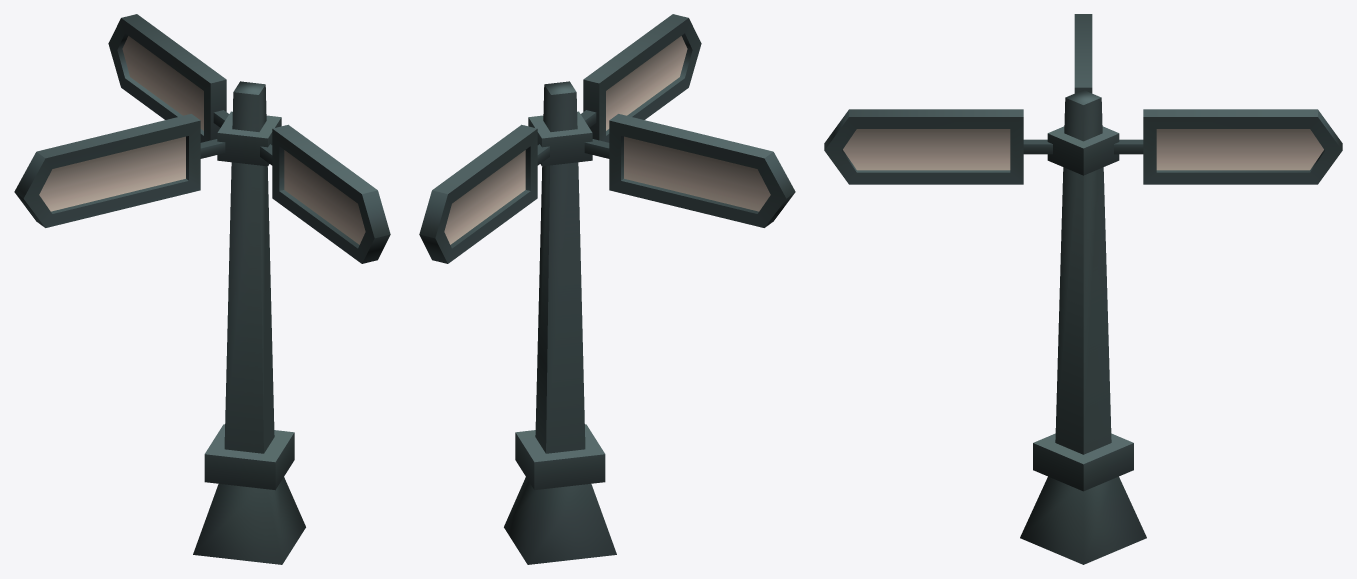
The model's file is Streetsign_1B.fbx.
3 renders of one model, left to right at view 1: azimuth 30°, elevation 25°; view 2: azimuth 150°, elevation 25°; view 3: azimuth 270°, elevation 25°, orthographic. The views are drawn at different scales.
Visible parts, largest first — view 1: Streetsign_1B; view 2: Streetsign_1B; view 3: Streetsign_1B.
Part boxes in pixels (x1,y1,x2,y2): Streetsign_1B: (14,14,390,564); Streetsign_1B: (419,14,795,564); Streetsign_1B: (824,14,1342,564).
Size of the model in its own units: 215 by 324 by 346.
